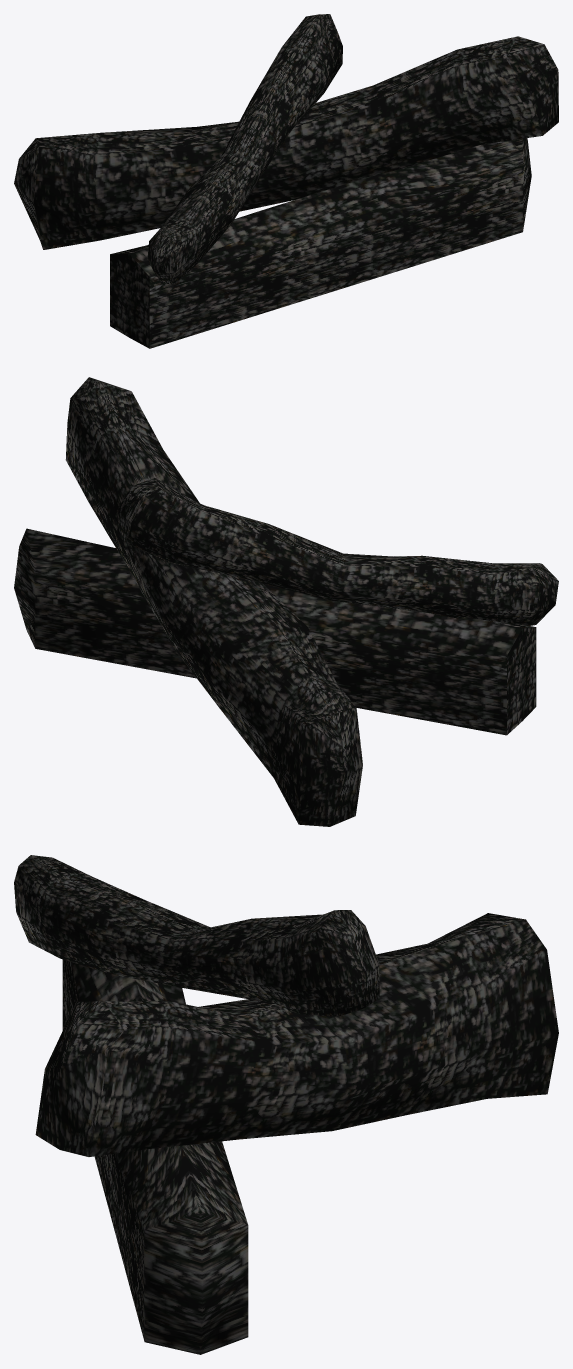
Rendered from INST_SM_BURNTWOODA.fbx.
The picture shows the model from 3 angles, top to bottom: view 1: azimuth 30°, elevation 25°; view 2: azimuth 150°, elevation 25°; view 3: azimuth 270°, elevation 25°; orthographic projection. The views are drawn at different scales.
Visible parts, largest first — view 1: INST_SM_BURNTWOODA; view 2: INST_SM_BURNTWOODA; view 3: INST_SM_BURNTWOODA.
Boxes of the visible parts, left/top/right/bottom form: INST_SM_BURNTWOODA: left=14, top=14, right=558, bottom=348; INST_SM_BURNTWOODA: left=14, top=377, right=558, bottom=826; INST_SM_BURNTWOODA: left=14, top=855, right=558, bottom=1354.
Bounding box in the file's own units: 112750 × 54447 × 78676.
Materials: 1 (1 with a texture image).
